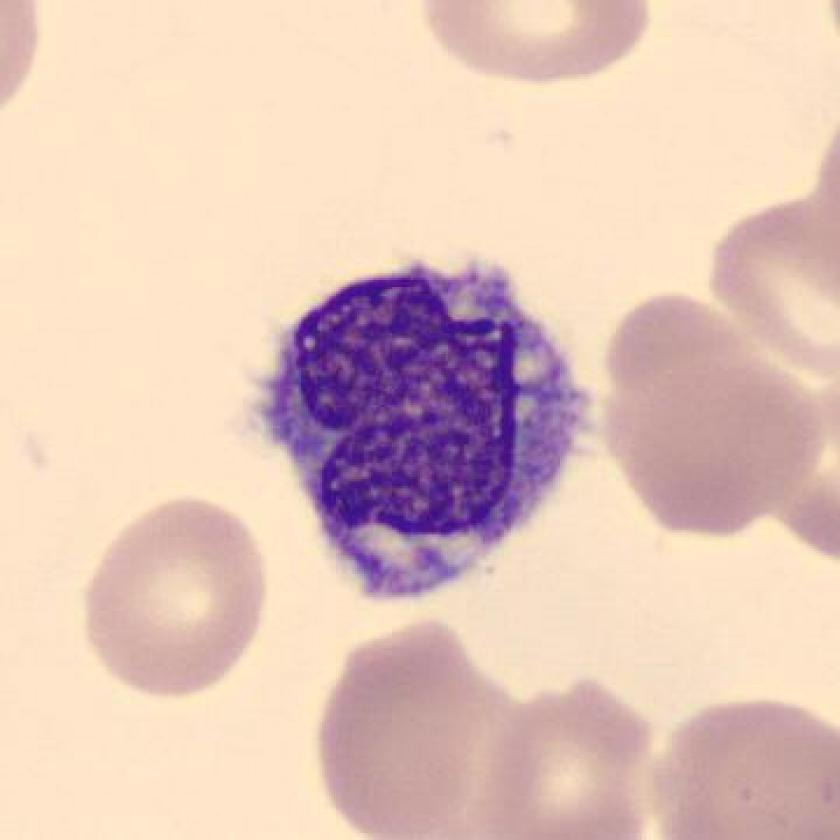monocyte: (241, 233, 610, 617)
